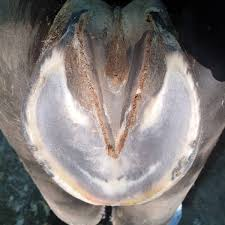horsesole: (21, 24, 200, 206)
